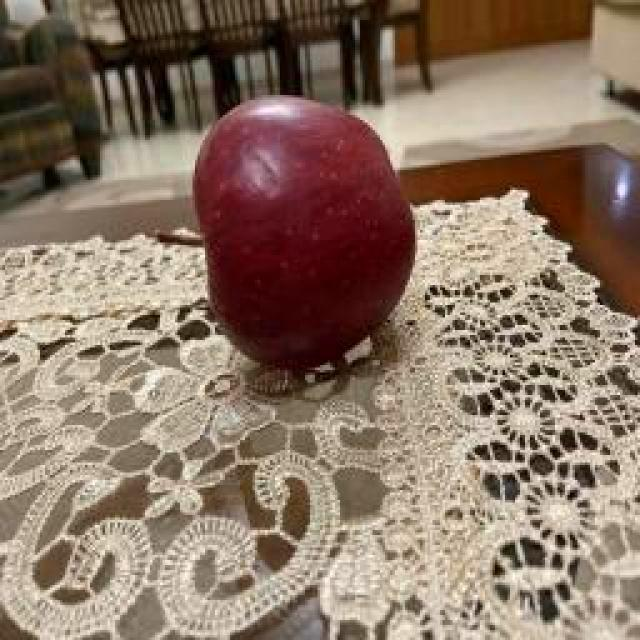apple: (194, 97, 414, 372)
